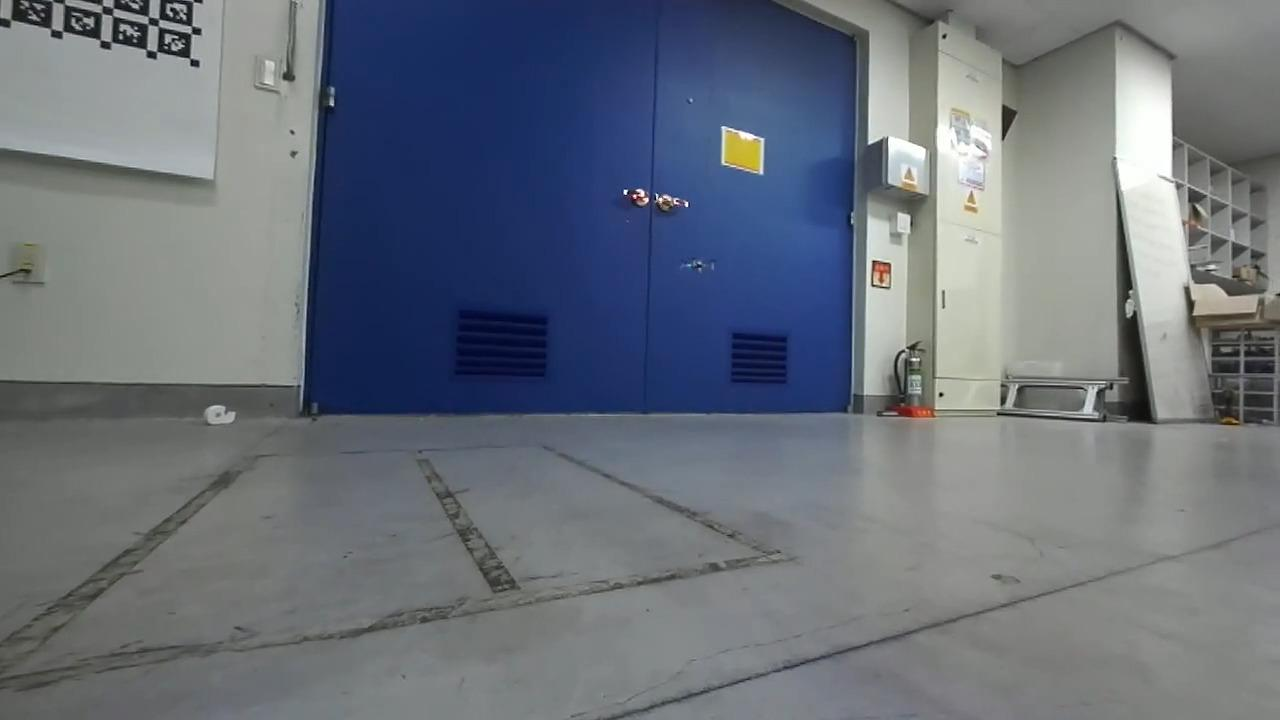crazyflie: (676, 253, 720, 276)
